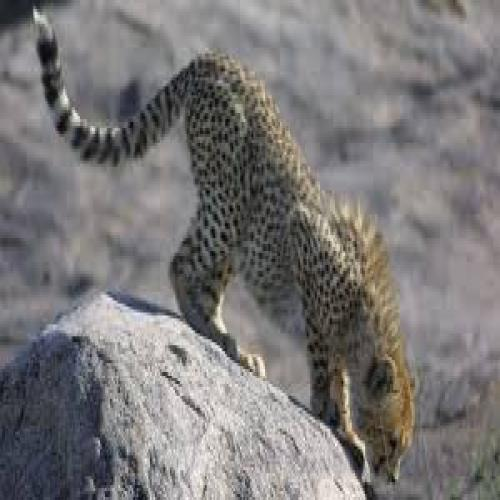cheetah-endangered: (36, 4, 411, 480)
